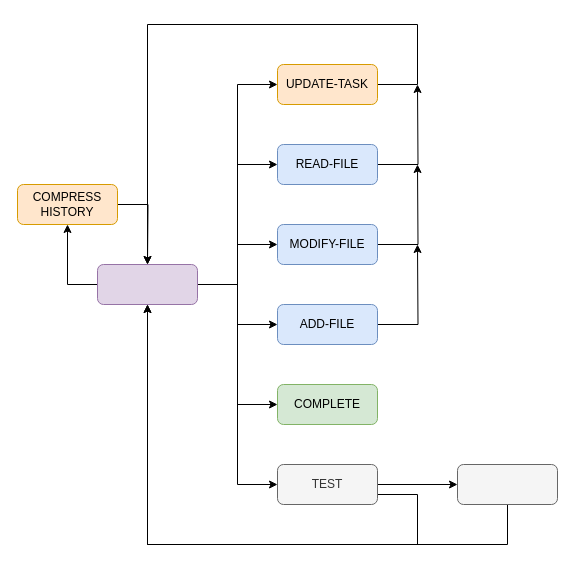
The diagram is 575 pixels wide and 570 high, and some of its shapes have lost their labels. The centre of each missing label's shape, as x and y in pixels:
"INTERPRET TEST RESULTS" goes at point 507,484.
"MAIN" goes at point 147,284.
